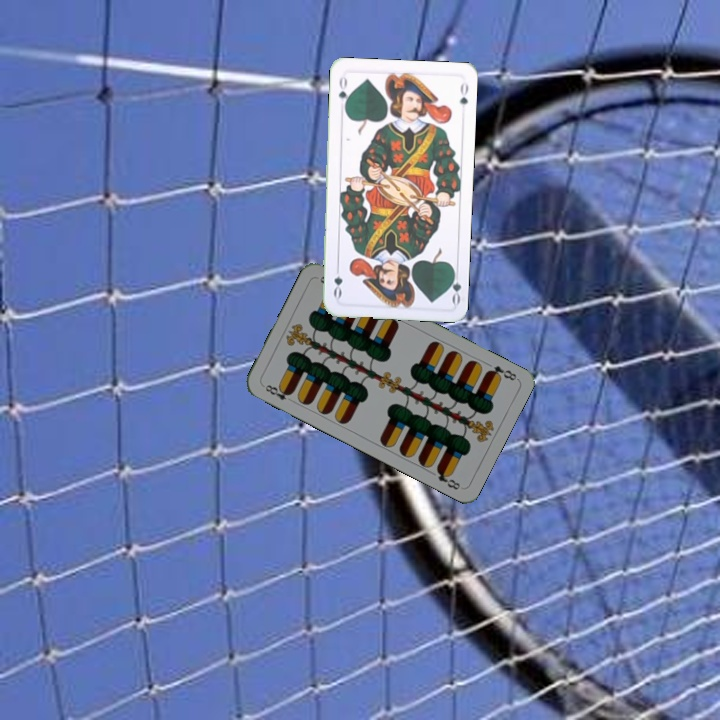E8: (259, 381, 295, 403), (482, 362, 519, 383)
GO: (444, 265, 464, 306), (334, 72, 351, 113)
